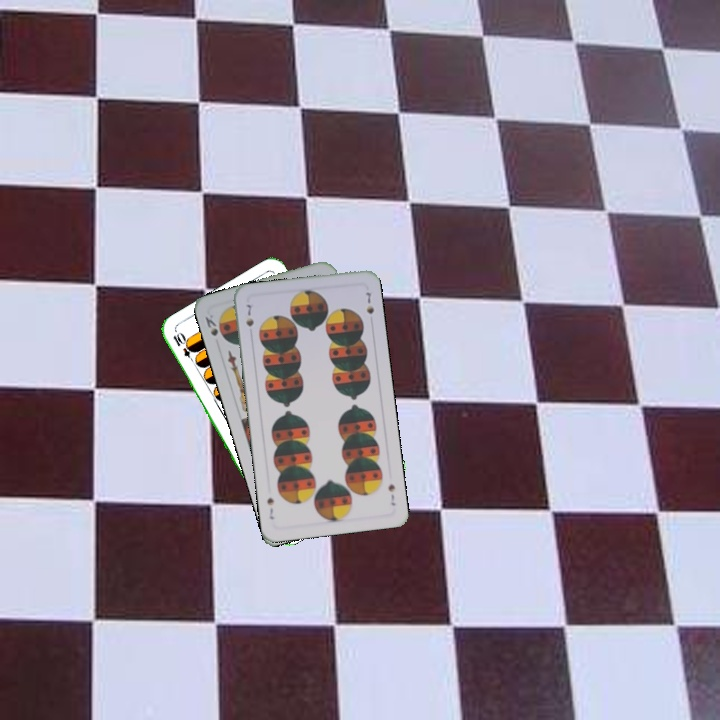E10: (169, 329, 199, 366)
S7: (242, 300, 256, 329), (384, 480, 398, 508)
SK: (201, 310, 221, 339)
